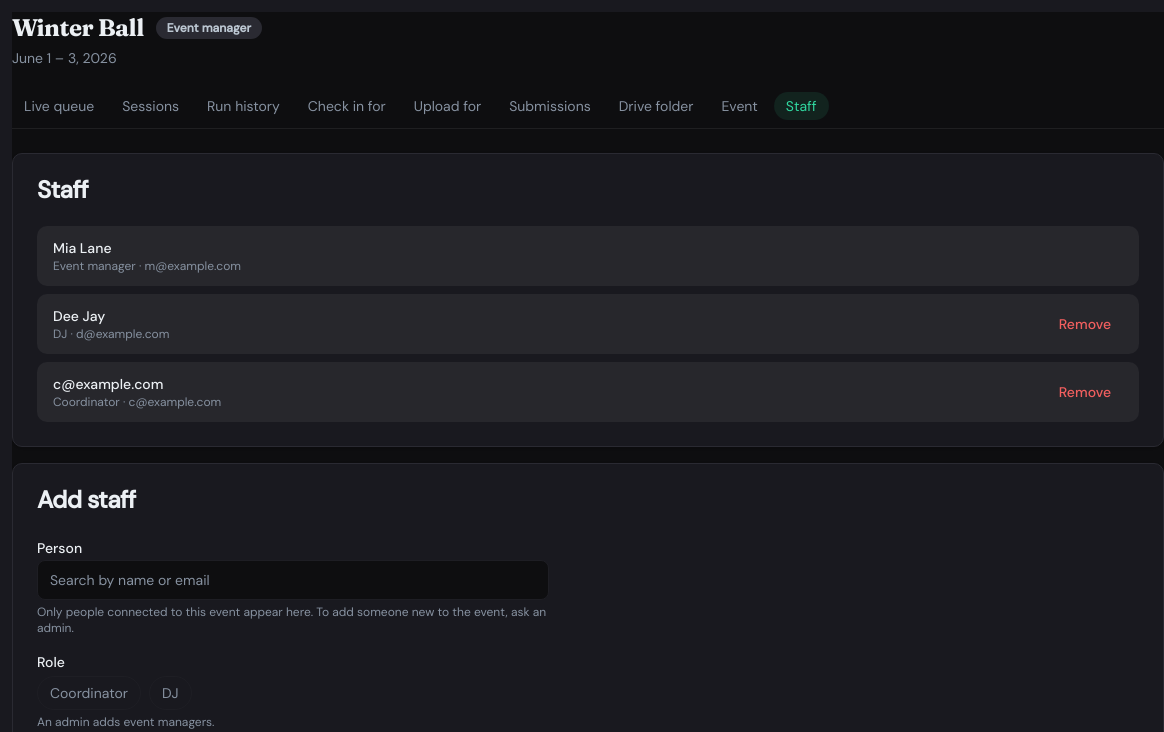
Test: EventManagerPortalPage › revokes a role through DELETE /v1/events/:id/staff/:userId/:role
The width and height of the screenshot is (1164, 732).
What coordinates should you click on to do the following:
click the button with aria-label "Remove Dee Jay as DJ"
I would click on:
 (1085, 324)
Its box is [1047, 306, 1123, 342].
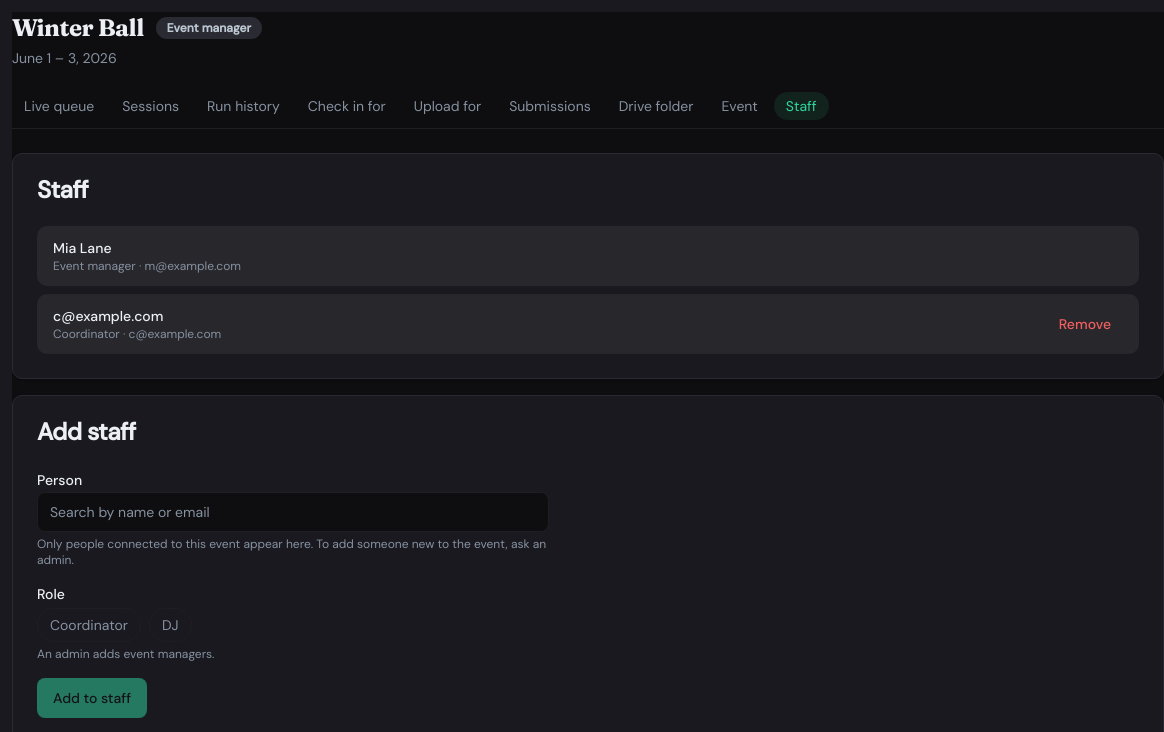
Expected: the text "Dee Jay" is gone
